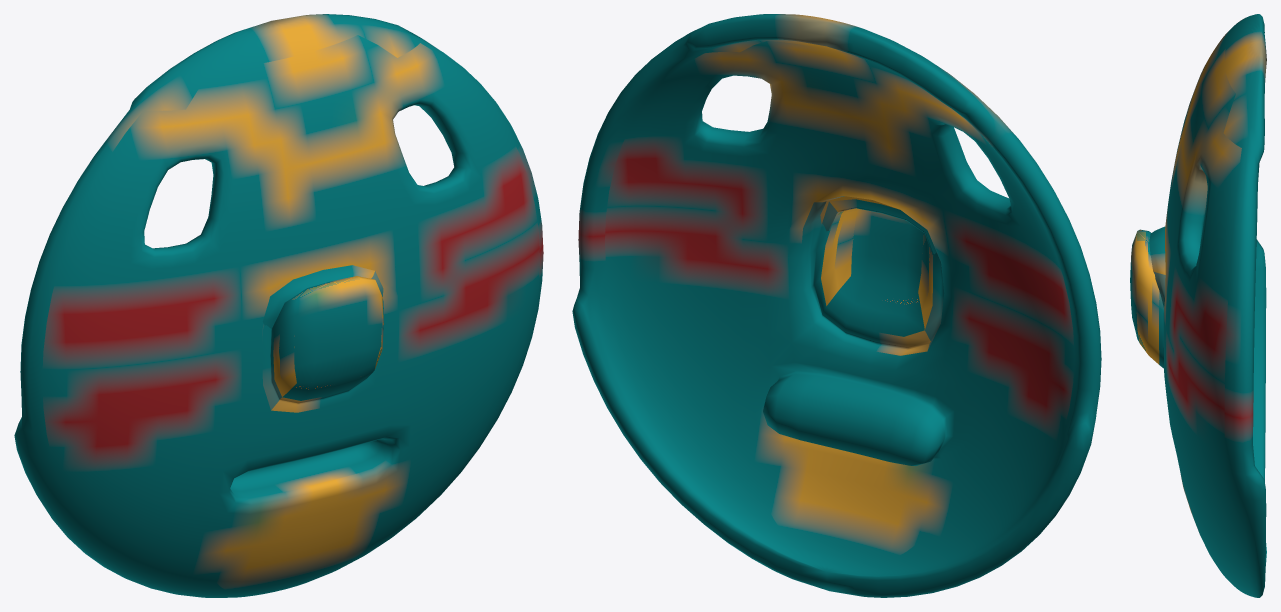
Rendered from mascara.glb.
The picture shows the model from 3 angles, left to right: view 1: azimuth 30°, elevation 25°; view 2: azimuth 150°, elevation 25°; view 3: azimuth 270°, elevation 25°; orthographic projection. The views are drawn at different scales.
Visible parts, largest first — view 1: Esfera; view 2: Esfera; view 3: Esfera.
Part boxes in pixels (x1=…): Esfera: x1=14, y1=14, x2=543, y2=597; Esfera: x1=572, y1=14, x2=1101, y2=597; Esfera: x1=1130, y1=14, x2=1266, y2=597.
Bounding box in the file's own units: 0.2387 × 0.2488 × 0.058.
1 material, 1 textured.
